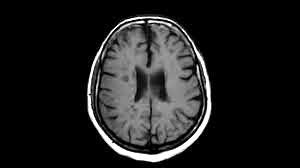Normal_Brain: (74, 9, 216, 168)
